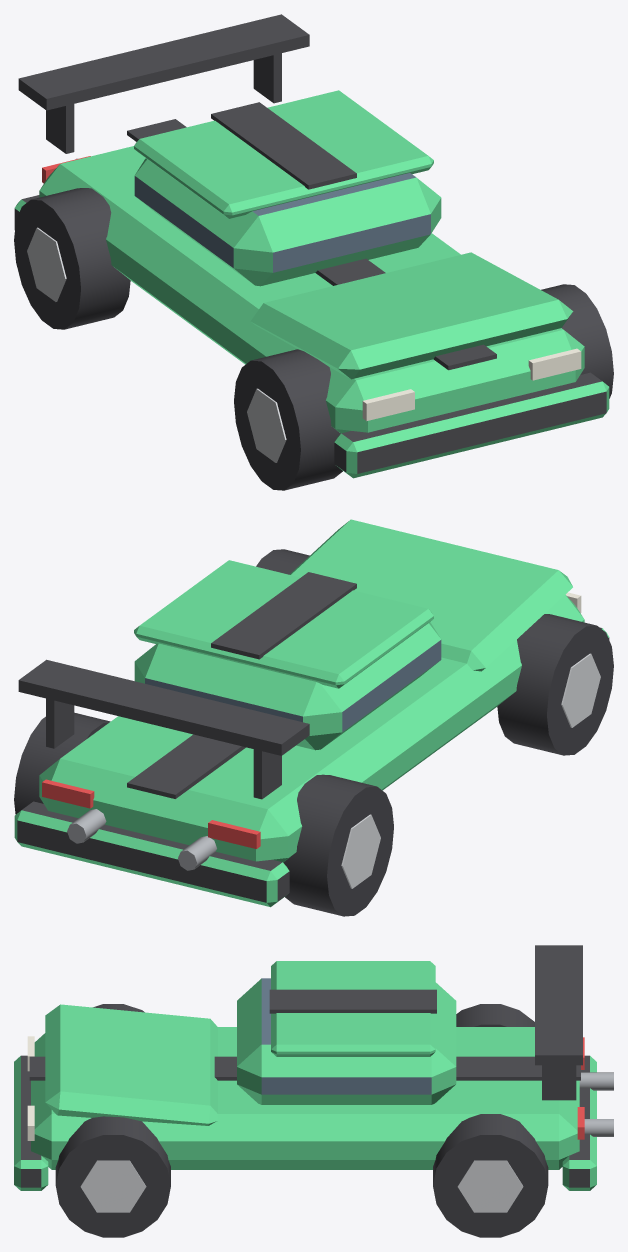
The model's file is rc_car_ai_green.glb.
3 views of the same model, one above another, from view 1: azimuth 30°, elevation 25°; view 2: azimuth 150°, elevation 25°; view 3: azimuth 270°, elevation 25° (orthographic). The views are drawn at different scales.
Parts seen in each view (by area): view 1: rc_car_ai_green; view 2: rc_car_ai_green; view 3: rc_car_ai_green.
Part boxes in pixels (left/top/right/bottom): rc_car_ai_green: left=14, top=14, right=613, bottom=490; rc_car_ai_green: left=14, top=519, right=613, bottom=916; rc_car_ai_green: left=14, top=945, right=613, bottom=1237.
Size of the model in its own units: 2.28 by 1.39 by 4.38.
